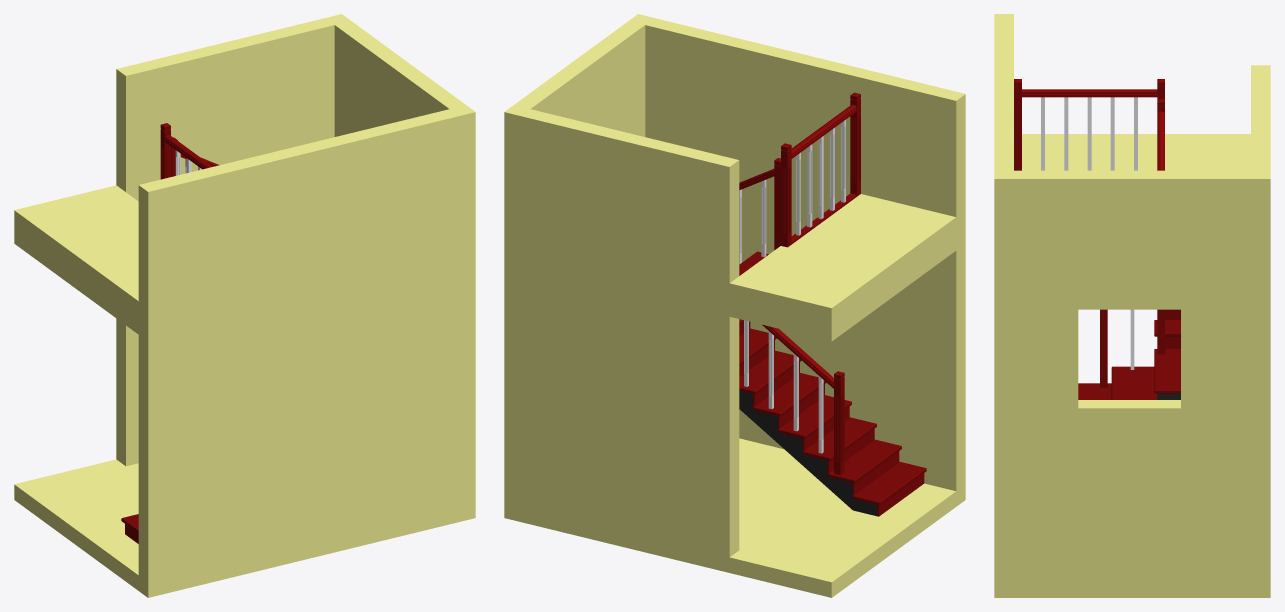
Rendered from лестница на металлокаркасе.obj.
3 views of the same model, side by side, from view 1: azimuth 30°, elevation 25°; view 2: azimuth 150°, elevation 25°; view 3: azimuth 270°, elevation 25° (orthographic). The views are drawn at different scales.
Bounding box in the file's own units: 3.95 × 4.68 × 2.8.
